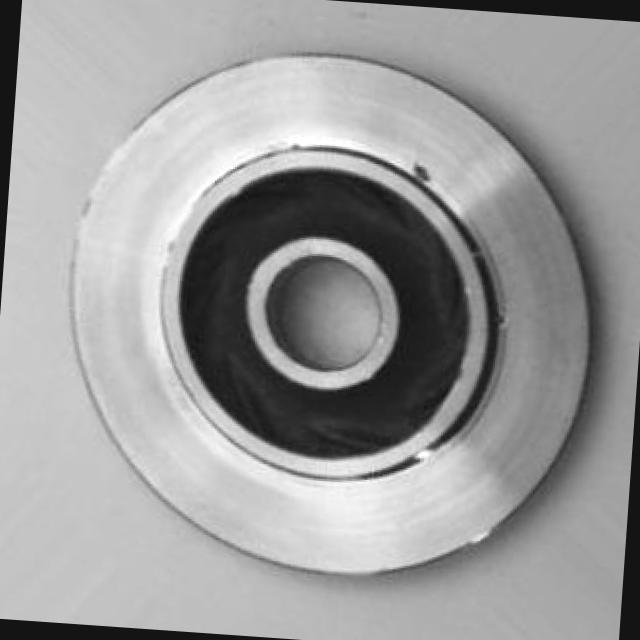Defect: (400, 154, 450, 192)
